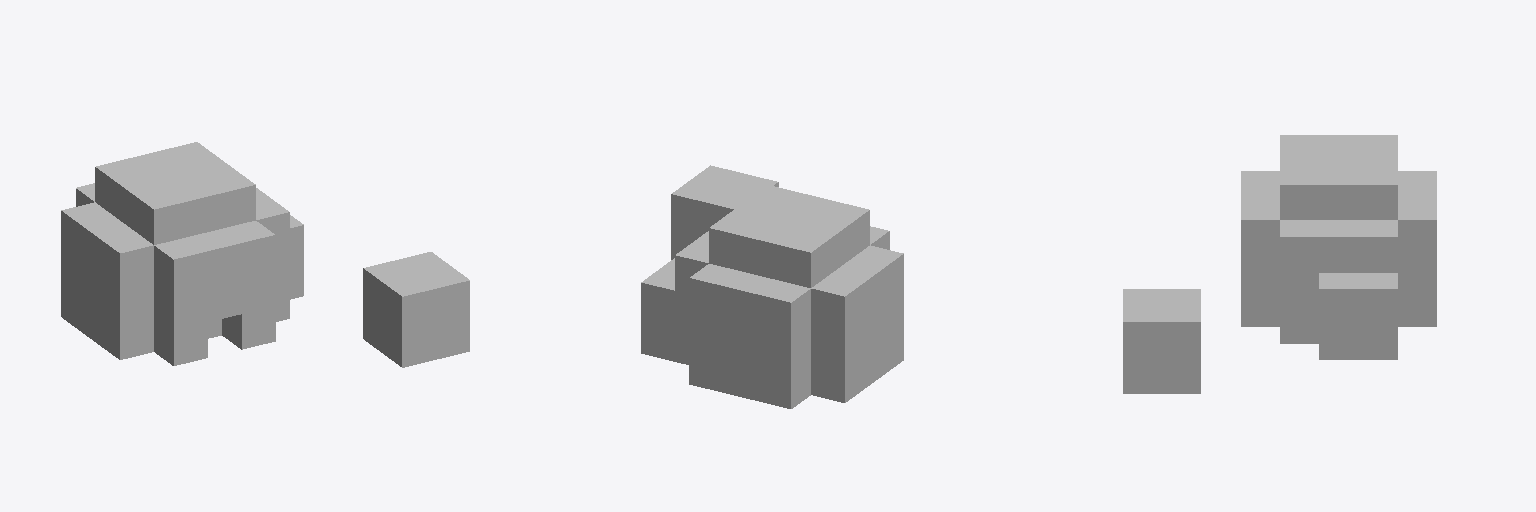
File: Playground_Sand_Castle.obj
3 views of the same model, side by side, from view 1: azimuth 30°, elevation 25°; view 2: azimuth 150°, elevation 25°; view 3: azimuth 270°, elevation 25° (orthographic).
Visible parts, largest first — view 1: object 1; view 2: object 1; view 3: object 1.
Part boxes in pixels (bbox=[...]): object 1: bbox=[61, 142, 469, 367]; object 1: bbox=[641, 165, 903, 408]; object 1: bbox=[1123, 135, 1436, 393].
Bounding box in the file's own units: 0.8 × 0.4 × 0.8.